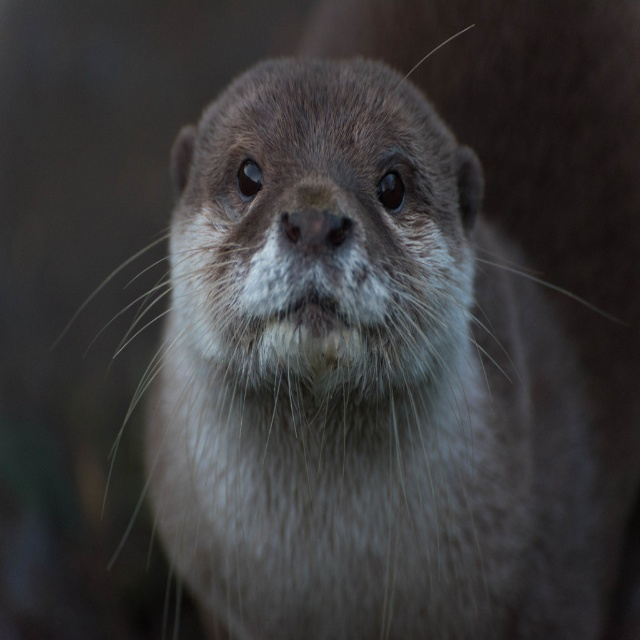Otter: (57, 27, 631, 639)
